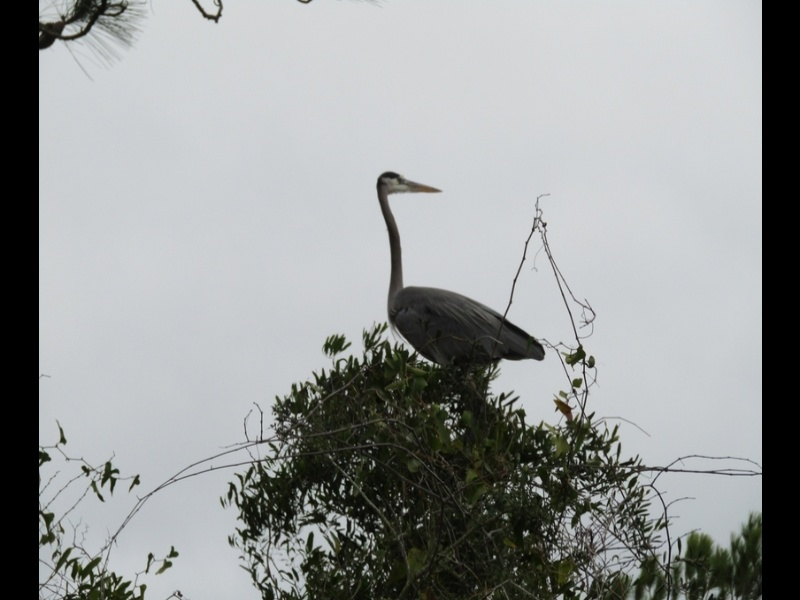heron: (376, 171, 547, 376)
